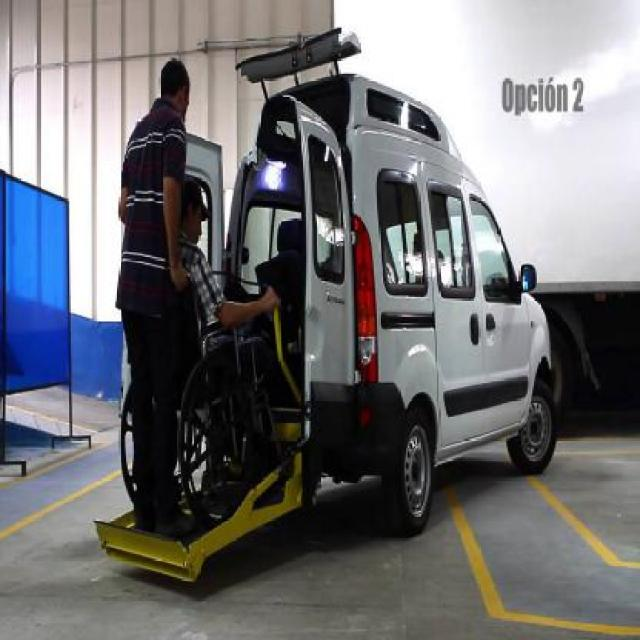people: (114, 46, 194, 545)
peopleWithWheelchair: (119, 178, 286, 510)
